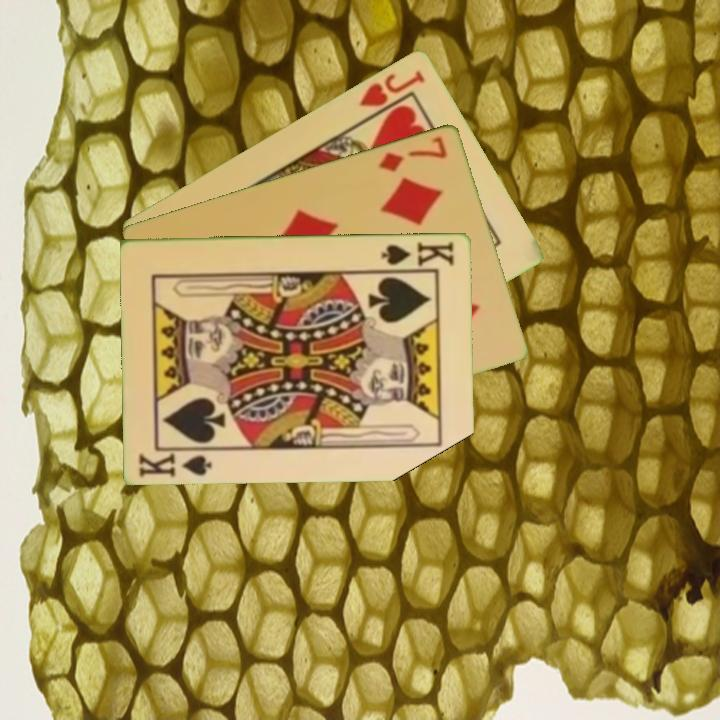7d: (376, 132, 450, 174)
Jh: (355, 66, 429, 124)
Ks: (135, 445, 217, 480), (378, 237, 457, 269)
